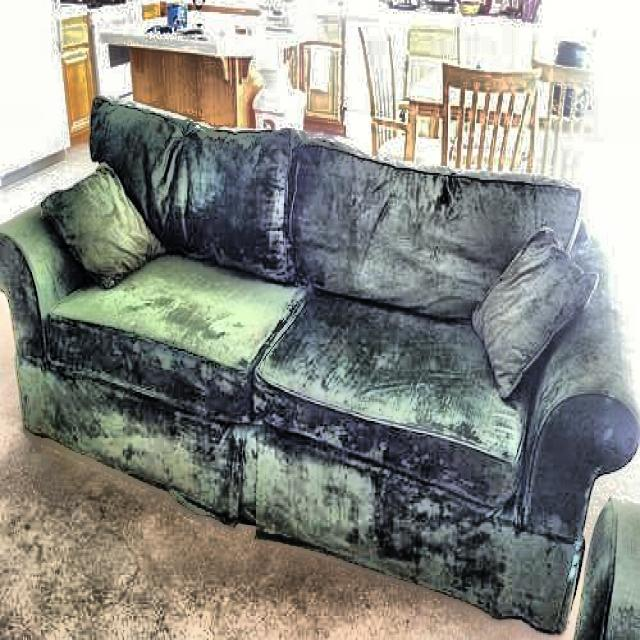sofa: (0, 98, 640, 637)
